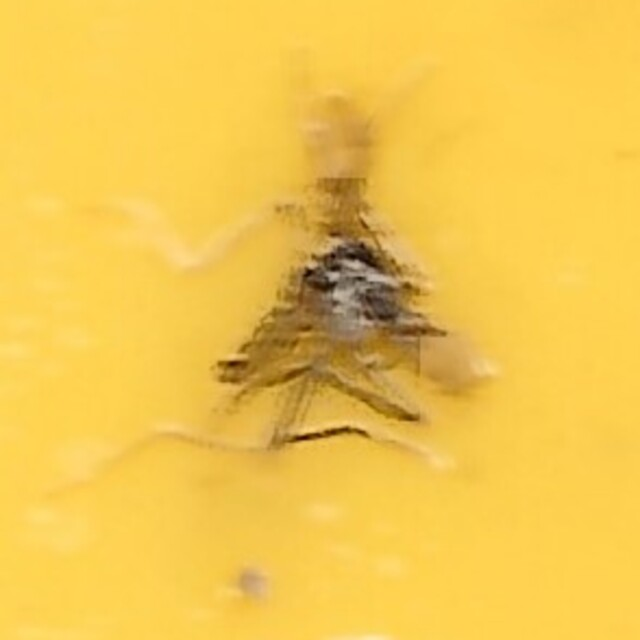Nematocera: (218, 241, 422, 399)
